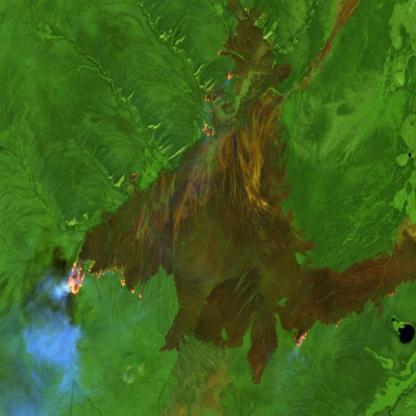fire: (66, 253, 147, 309), (199, 86, 220, 140)
